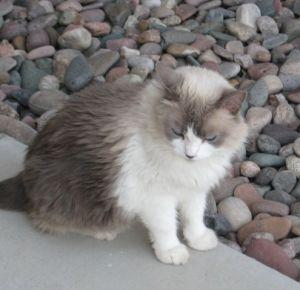ragdoll: (139, 55, 255, 184)
